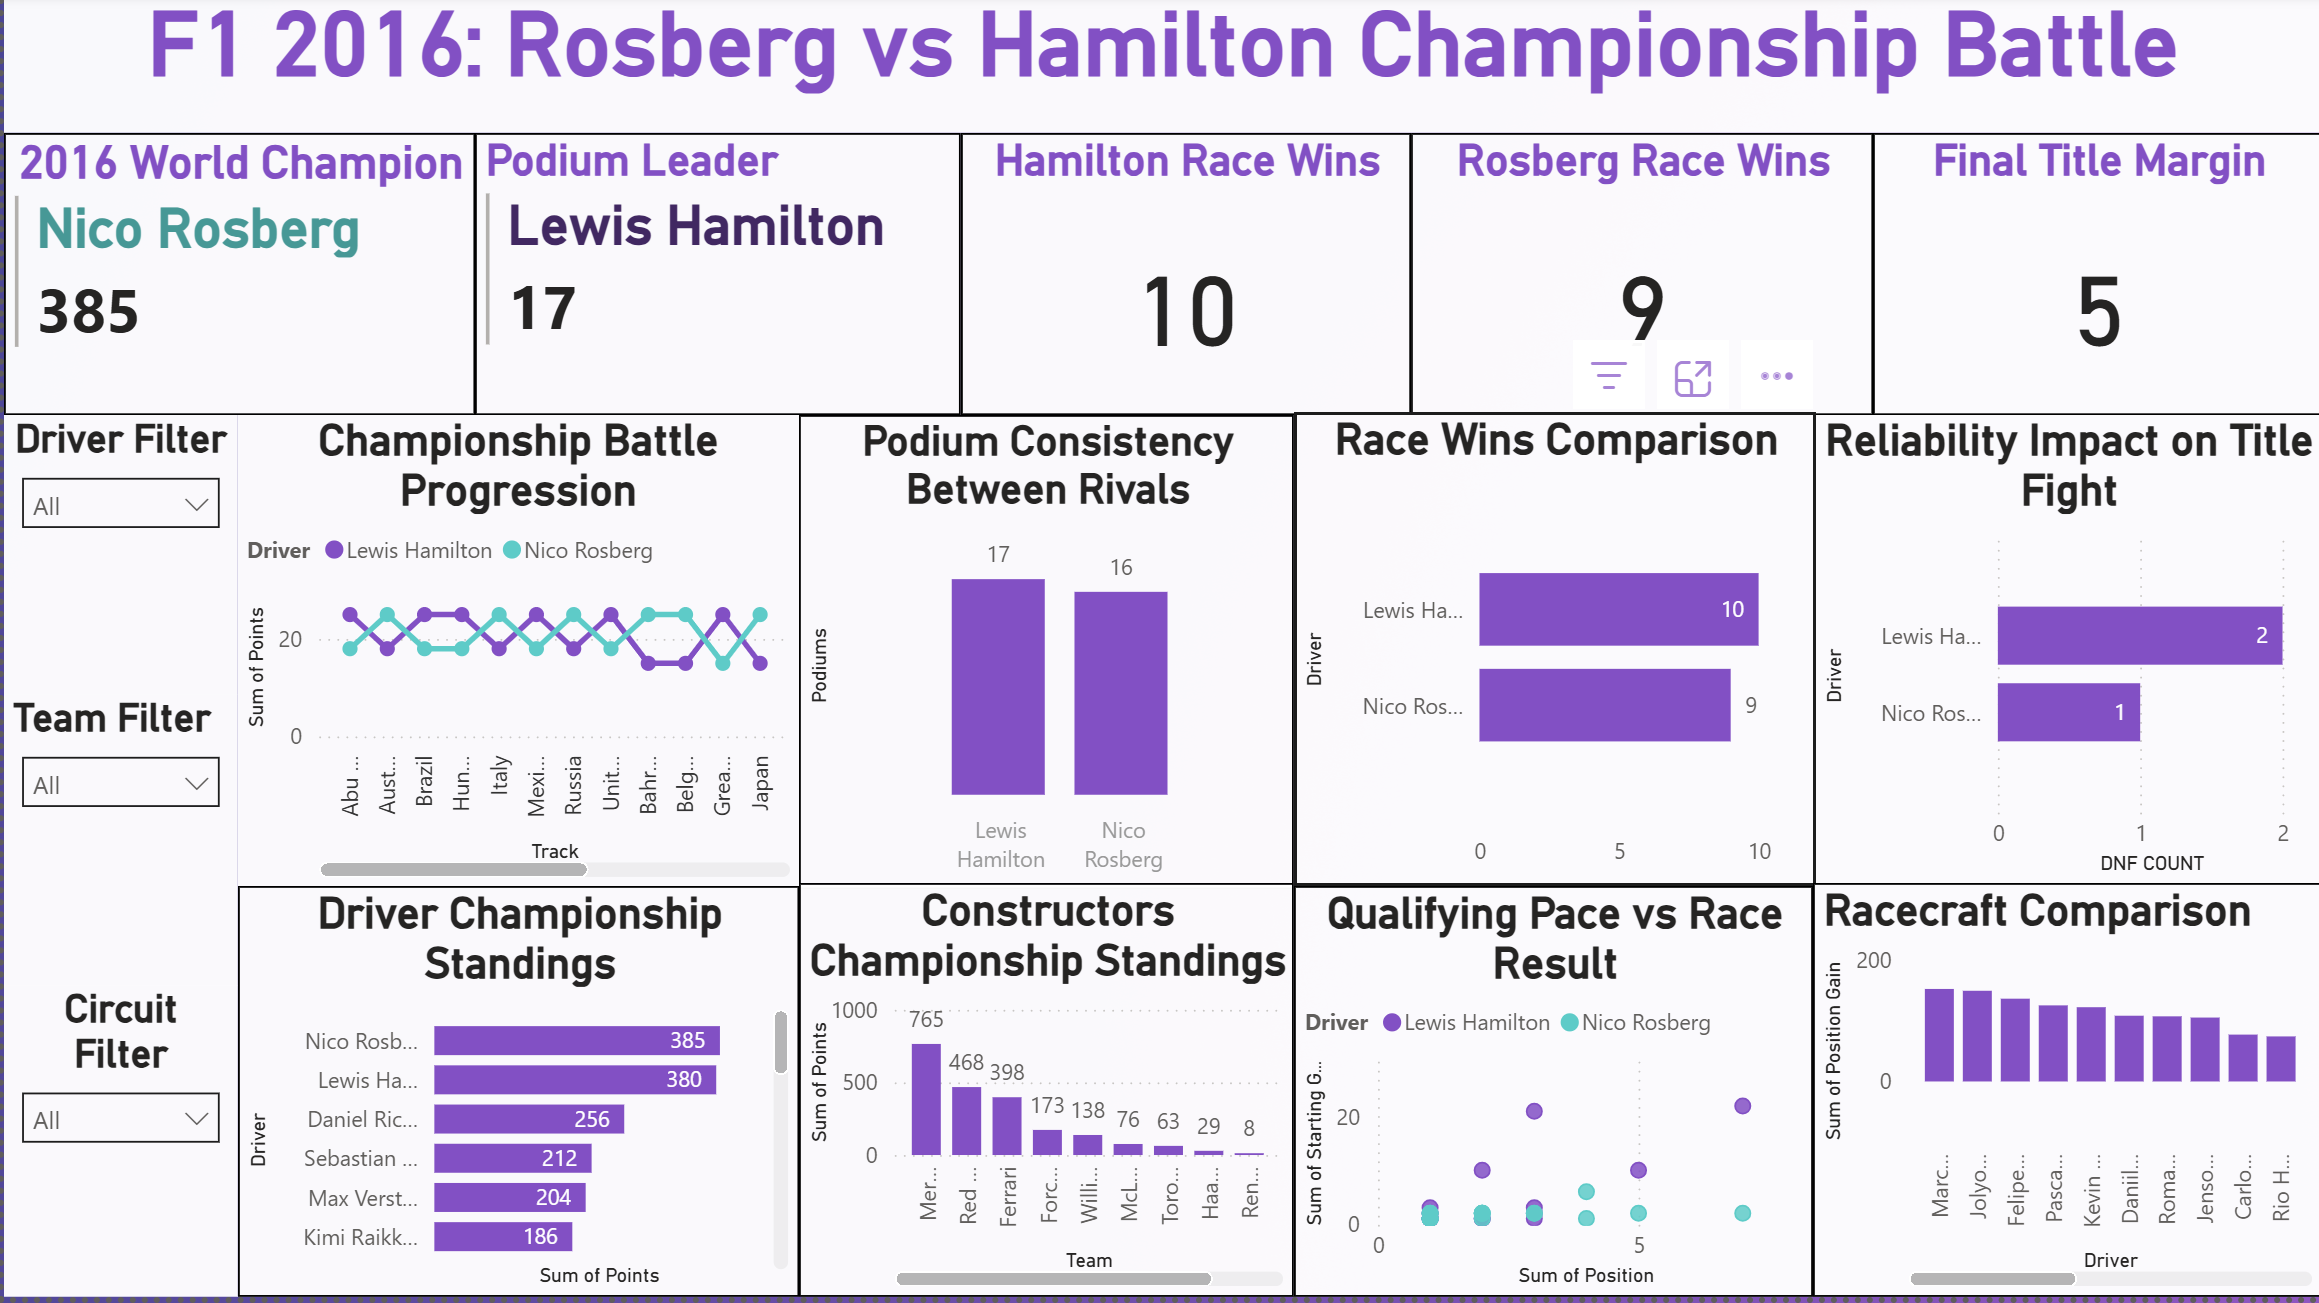

What the dashboard file says about the page in this screenshot:
{"tool":"powerbi","page":{"name":"Page 1","canvas":[1280,720],"ordinal":0},"visuals":[{"type":"multiRowCard","title":"2016 World Champion","fields":{"Values":["f1-2016.Total Points","f1-2016.Driver"]},"box":[0,77.8,259.9,155.6],"z":0},{"type":"card","title":"Rosberg Race Wins","fields":{"Values":["f1-2016.ROSEBERG WINS"]},"box":[776.3,77.8,254.9,155.6],"z":1},{"type":"card","title":"Hamilton Race Wins","fields":{"Values":["f1-2016.Hamilton Wins"]},"box":[528,77.8,248.3,155.6],"z":2},{"type":"card","title":"Final Title Margin","fields":{"Values":["f1-2016.Championship Margin"]},"box":[1031.2,77.8,248.3,155.6],"z":3},{"type":"multiRowCard","title":"Podium Leader","fields":{"Values":["f1-2016.Driver","f1-2016.Podiums"]},"box":[259.9,77.8,268.1,155.6],"z":4},{"type":"lineChart","title":"Championship Battle Progression","fields":{"Category":["f1-2016.Track"],"Y":["Sum(f1-2016.Points)"],"Series":["f1-2016.Driver"]},"box":[129.1,233.4,309.5,259.9],"z":5},{"type":"clusteredBarChart","title":"Race Wins Comparison","fields":{"Category":["f1-2016.Driver"],"Y":["Sum(f1-2016.WIN)"]},"box":[711.7,231.7,288,261.5],"z":6},{"type":"clusteredColumnChart","title":"Podium Consistency Between Rivals","fields":{"Category":["f1-2016.Driver"],"Y":["f1-2016.Podiums"]},"box":[438.6,233.4,273.1,261.5],"z":7},{"type":"scatterChart","title":"Qualifying Pace vs Race Result","fields":{"X":["Sum(f1-2016.Position)"],"Y":["Sum(f1-2016.Starting Grid)"],"Series":["f1-2016.Driver"],"Category":["f1-2016.Track"]},"box":[711.7,493.2,286.3,226.8],"z":8},{"type":"barChart","title":"Reliability Impact on Title Fight","fields":{"Category":["f1-2016.Driver"],"Y":["f1-2016.DNF COUNT"]},"box":[999.7,233.4,279.7,258.2],"z":9},{"type":"columnChart","title":"Racecraft Comparison","fields":{"Category":["f1-2016.Driver"],"Y":["Sum(f1-2016.Position Gain)"]},"box":[998.1,491.6,281.4,228.4],"z":10},{"type":"barChart","title":"Driver  Championship Standings","fields":{"Category":["f1-2016.Driver"],"Y":["Sum(f1-2016.Points)"]},"box":[129.1,493.2,309.5,226.8],"z":11},{"type":"columnChart","title":"Constructors Championship Standings","fields":{"Category":["f1-2016.Team"],"Y":["Sum(f1-2016.Points)"]},"box":[438.6,491.6,273.1,228.4],"z":12},{"type":"slicer","title":"Driver Filter","fields":{"Values":["f1-2016.Driver"]},"box":[0,233.4,129.1,153.9],"z":13},{"type":"slicer","title":"Team Filter","fields":{"Values":["f1-2016.Team"]},"box":[0,387.3,129.1,160.6],"z":14},{"type":"slicer","title":"Circuit Filter","fields":{"Values":["f1-2016.Track"]},"box":[0,547.9,129.1,172.1],"z":15},{"type":"shape","title":"F1 2016: Rosberg vs Hamilton Championship Battle","box":[0,0,1279.4,77.8],"z":16}]}

Visuals, with their boxes in screenshot pixels (x1, y1, x2, y2), scaled from the page's 1280x720 canvas onto the 2319x1303 screenshot:
"2016 World Champion" multiRowCard: locate(0, 141, 471, 422)
"Rosberg Race Wins" card: locate(1406, 141, 1868, 422)
"Hamilton Race Wins" card: locate(957, 141, 1406, 422)
"Final Title Margin" card: locate(1868, 141, 2318, 422)
"Podium Leader" multiRowCard: locate(471, 141, 957, 422)
"Championship Battle Progression" lineChart: locate(234, 422, 795, 893)
"Race Wins Comparison" clusteredBarChart: locate(1289, 419, 1811, 893)
"Podium Consistency Between Rivals" clusteredColumnChart: locate(795, 422, 1289, 896)
"Qualifying Pace vs Race Result" scatterChart: locate(1289, 893, 1808, 1302)
"Reliability Impact on Title Fight" barChart: locate(1811, 422, 2318, 890)
"Racecraft Comparison" columnChart: locate(1808, 890, 2318, 1302)
"Driver  Championship Standings" barChart: locate(234, 893, 795, 1302)
"Constructors Championship Standings" columnChart: locate(795, 890, 1289, 1302)
"Driver Filter" slicer: locate(0, 422, 234, 701)
"Team Filter" slicer: locate(0, 701, 234, 992)
"Circuit Filter" slicer: locate(0, 992, 234, 1302)
"F1 2016: Rosberg vs Hamilton Championship Battle" shape: locate(0, 0, 2318, 141)
